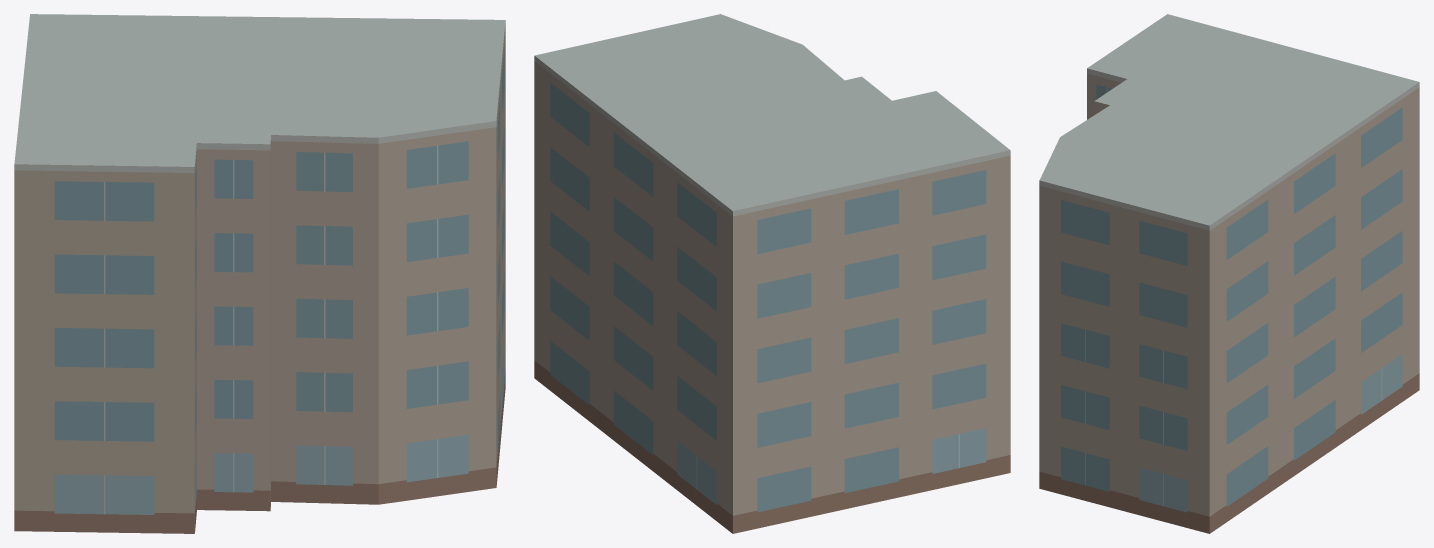
File: survey-upis-32653177.glb
The picture shows the model from 3 angles, left to right: view 1: azimuth 30°, elevation 25°; view 2: azimuth 150°, elevation 25°; view 3: azimuth 270°, elevation 25°; orthographic projection. The views are drawn at different scales.
Visible parts, largest first — view 1: survey-upis-32653177.tmp; view 2: survey-upis-32653177.tmp; view 3: survey-upis-32653177.tmp.
Boxes of the visible parts, bbox=[...] form: survey-upis-32653177.tmp: bbox=[14, 14, 505, 533]; survey-upis-32653177.tmp: bbox=[534, 14, 1010, 533]; survey-upis-32653177.tmp: bbox=[1039, 14, 1419, 533].
Size of the model in its own units: 21.51 by 14.6 by 16.33.
